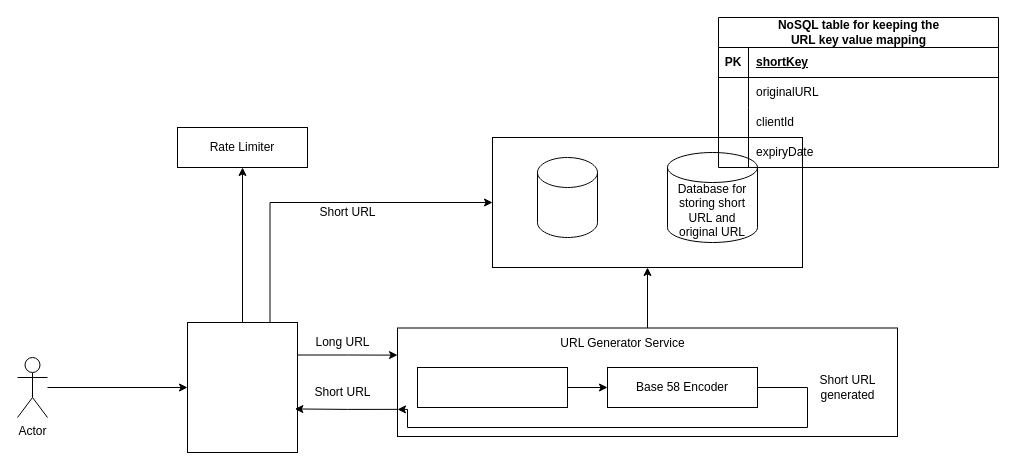
Image size: 1016x470. Some labels were removed from this diagram. Each missing label, with the centre of its shape:
"64 Bit Sequence Generator" goes at point 492,387.
"Cache for read throughtput" goes at point 567,197.
"URL Shortener API Servers" goes at point 242,387.
